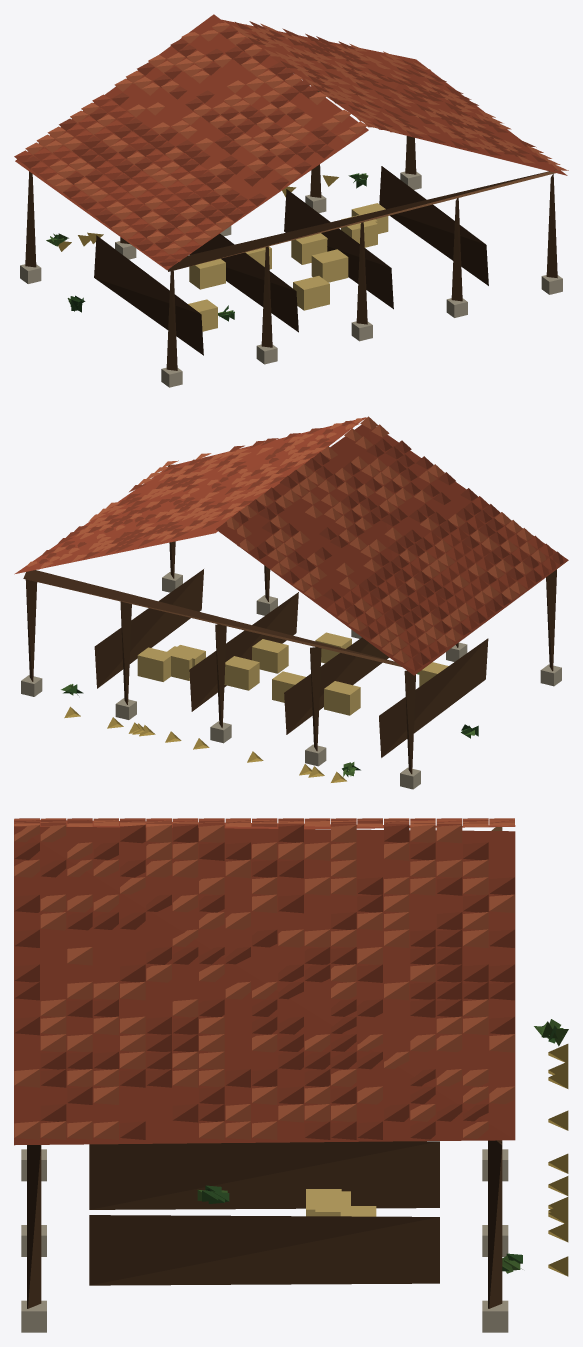
Rendered from cow_barn.glb.
3 views of the same model, one above another, from view 1: azimuth 30°, elevation 25°; view 2: azimuth 150°, elevation 25°; view 3: azimuth 270°, elevation 25° (orthographic). The views are drawn at different scales.
Size of the model in its own units: 7.36 by 3.74 by 5.35.
